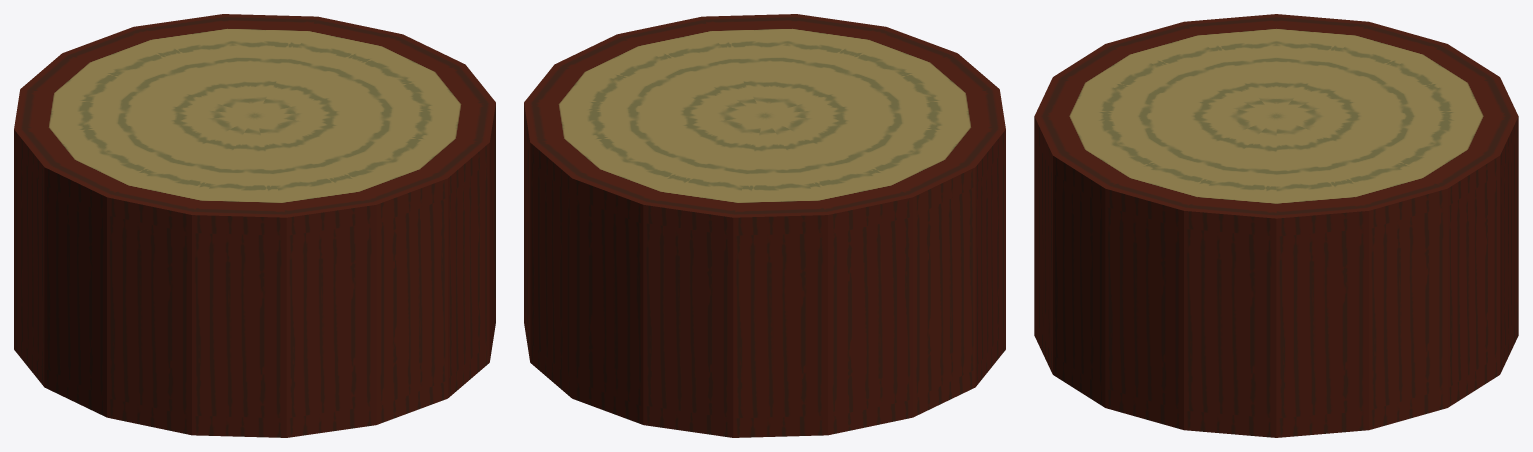
The model's file is Stub.fbx.
3 views of the same model, side by side, from view 1: azimuth 30°, elevation 25°; view 2: azimuth 150°, elevation 25°; view 3: azimuth 270°, elevation 25° (orthographic).
Parts seen in each view (by area): view 1: Cylinder.004; view 2: Cylinder.004; view 3: Cylinder.004.
Part boxes in pixels (x1,y1,x2,y2): Cylinder.004: [14, 14, 495, 437]; Cylinder.004: [524, 14, 1005, 437]; Cylinder.004: [1034, 14, 1518, 437].
Size of the model in its own units: 1.27 by 0.6361 by 1.27.
